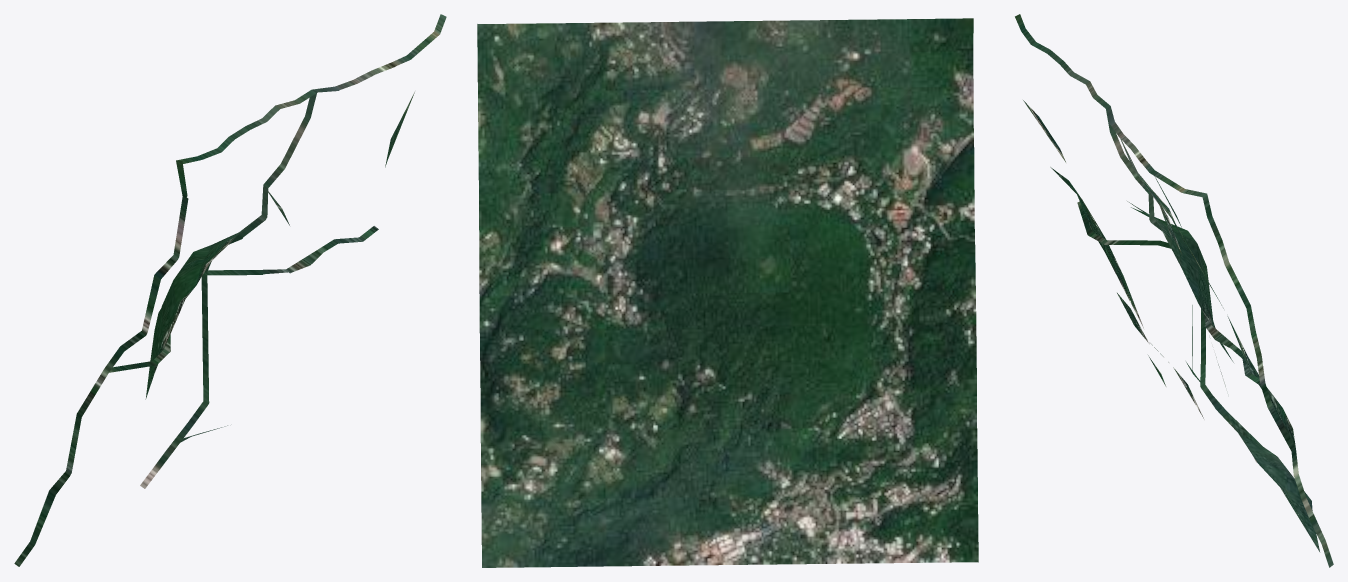
3 renders of one model, left to right at view 1: azimuth 30°, elevation 25°; view 2: azimuth 150°, elevation 25°; view 3: azimuth 270°, elevation 25°, orthographic. The views are drawn at different scales.
Bounding box in the file's own units: 2477 × 2446 × 1695.
Materials: 1 (1 with a texture image).
